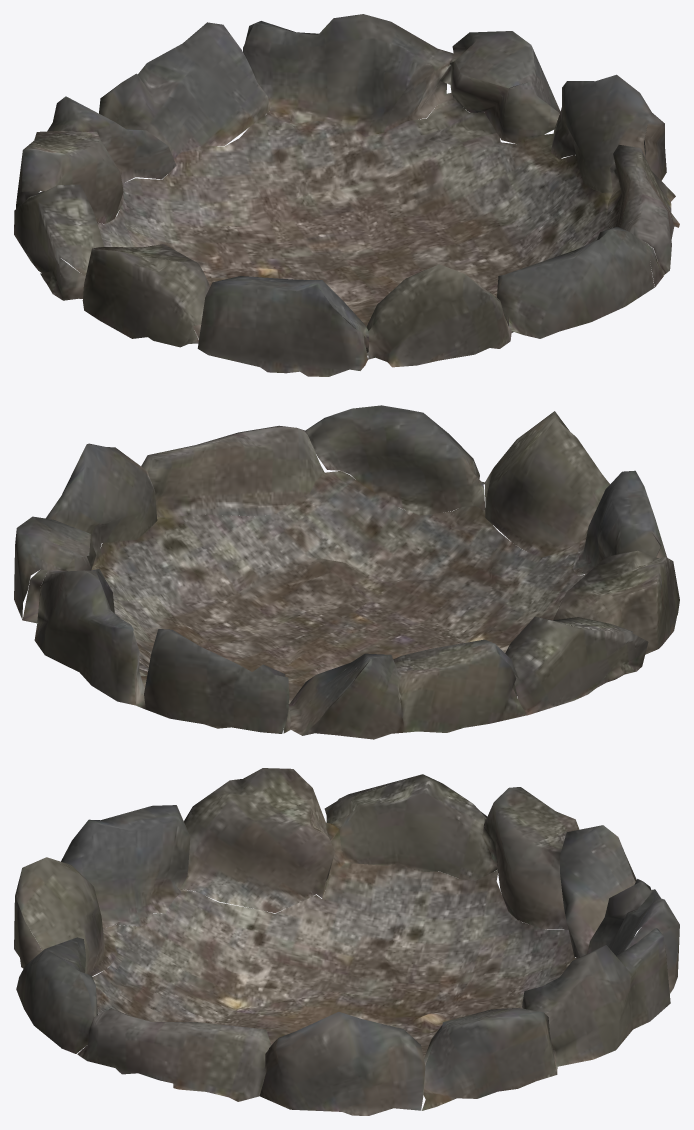
The model's file is campfire_stage.glb.
3 views of the same model, one above another, from view 1: azimuth 30°, elevation 25°; view 2: azimuth 150°, elevation 25°; view 3: azimuth 270°, elevation 25° (orthographic).
Visible parts, largest first — view 1: PH_StoneFirePit; view 2: PH_StoneFirePit; view 3: PH_StoneFirePit.
Part boxes in pixels (bbox=[...]): PH_StoneFirePit: bbox=[14, 14, 679, 376]; PH_StoneFirePit: bbox=[14, 405, 679, 739]; PH_StoneFirePit: bbox=[14, 768, 679, 1115].
Size of the model in its own units: 2.25 by 0.6032 by 2.23.
Materials: 1 (1 with a texture image).
